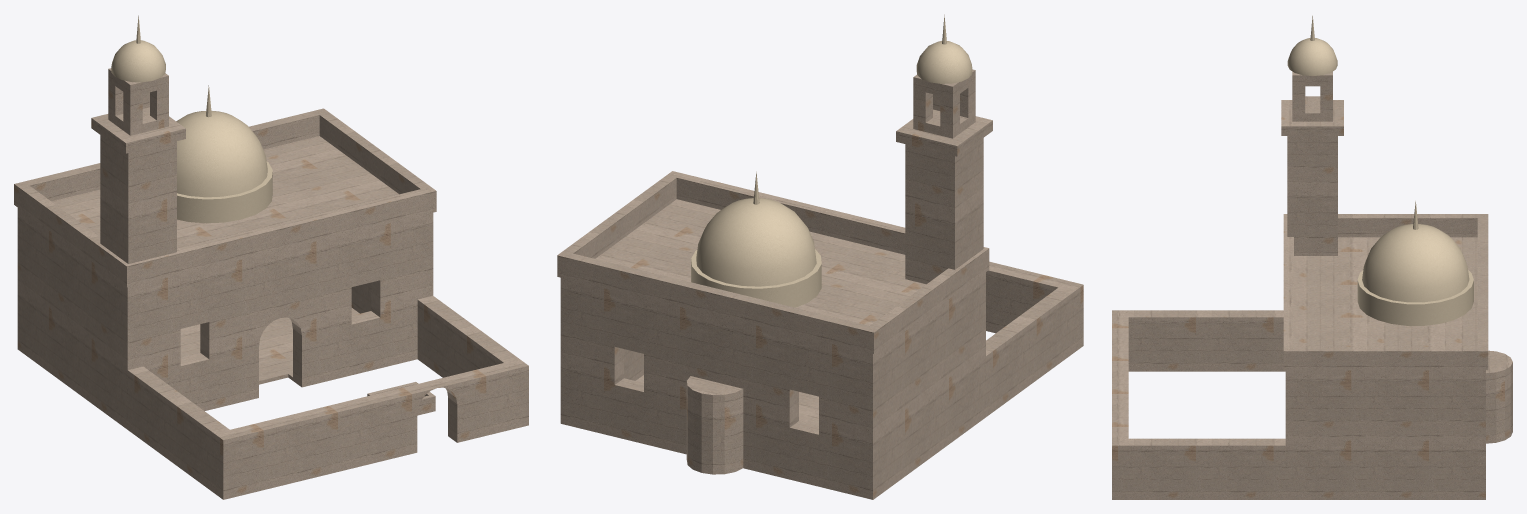
Rendered from small_1.glb.
The picture shows the model from 3 angles, left to right: view 1: azimuth 30°, elevation 25°; view 2: azimuth 150°, elevation 25°; view 3: azimuth 270°, elevation 25°; orthographic projection. The views are drawn at different scales.
Visible parts, largest first — view 1: mosque_small; view 2: mosque_small; view 3: mosque_small.
Part boxes in pixels (x1,y1,x2,y2): mosque_small: (14, 15, 528, 499); mosque_small: (557, 14, 1083, 499); mosque_small: (1112, 15, 1512, 499).
Size of the model in its own units: 10.93 by 13.36 by 13.4.
Materials: 2 (2 with a texture image).
